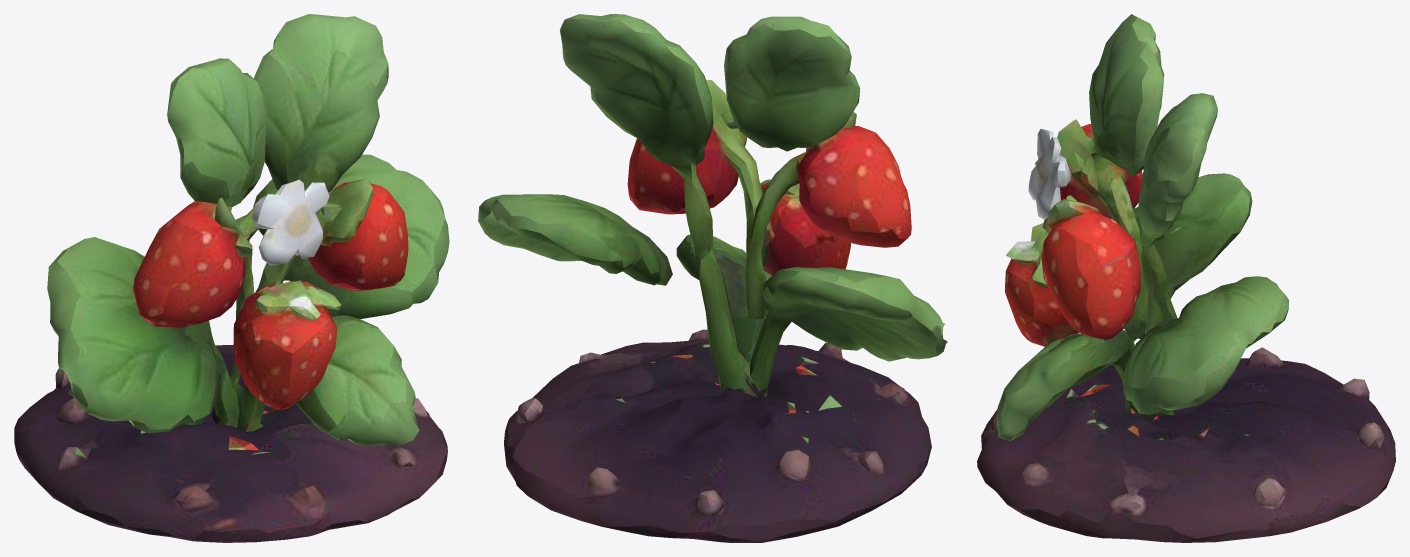
Rendered from crop_strawberry.glb.
3 renders of one model, left to right at view 1: azimuth 30°, elevation 25°; view 2: azimuth 150°, elevation 25°; view 3: azimuth 270°, elevation 25°, orthographic. The views are drawn at different scales.
Parts seen in each view (by area): view 1: crop_strawberry_s15; view 2: crop_strawberry_s15; view 3: crop_strawberry_s15.
Part boxes in pixels (box(x1,y1,x2,y2)): crop_strawberry_s15: box(14, 14, 449, 542); crop_strawberry_s15: box(478, 14, 947, 542); crop_strawberry_s15: box(977, 14, 1395, 542).
Size of the model in its own units: 1 by 0.9782 by 0.8872.
Materials: 1 (1 with a texture image).
